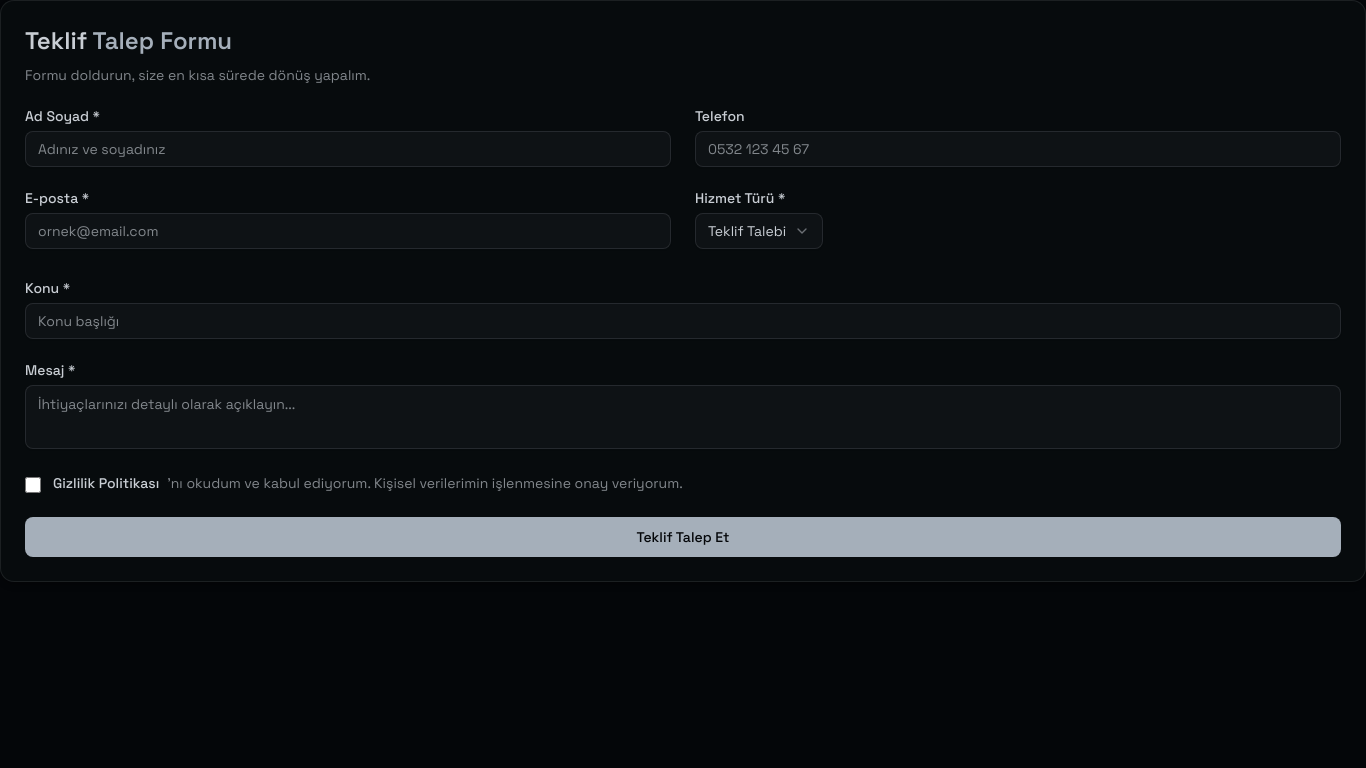
Test: ContactForm Component › shows validation error for invalid email
Type "invalid-email" into the field labelled "E-posta *" at (348, 231), box [25,213,671,249]
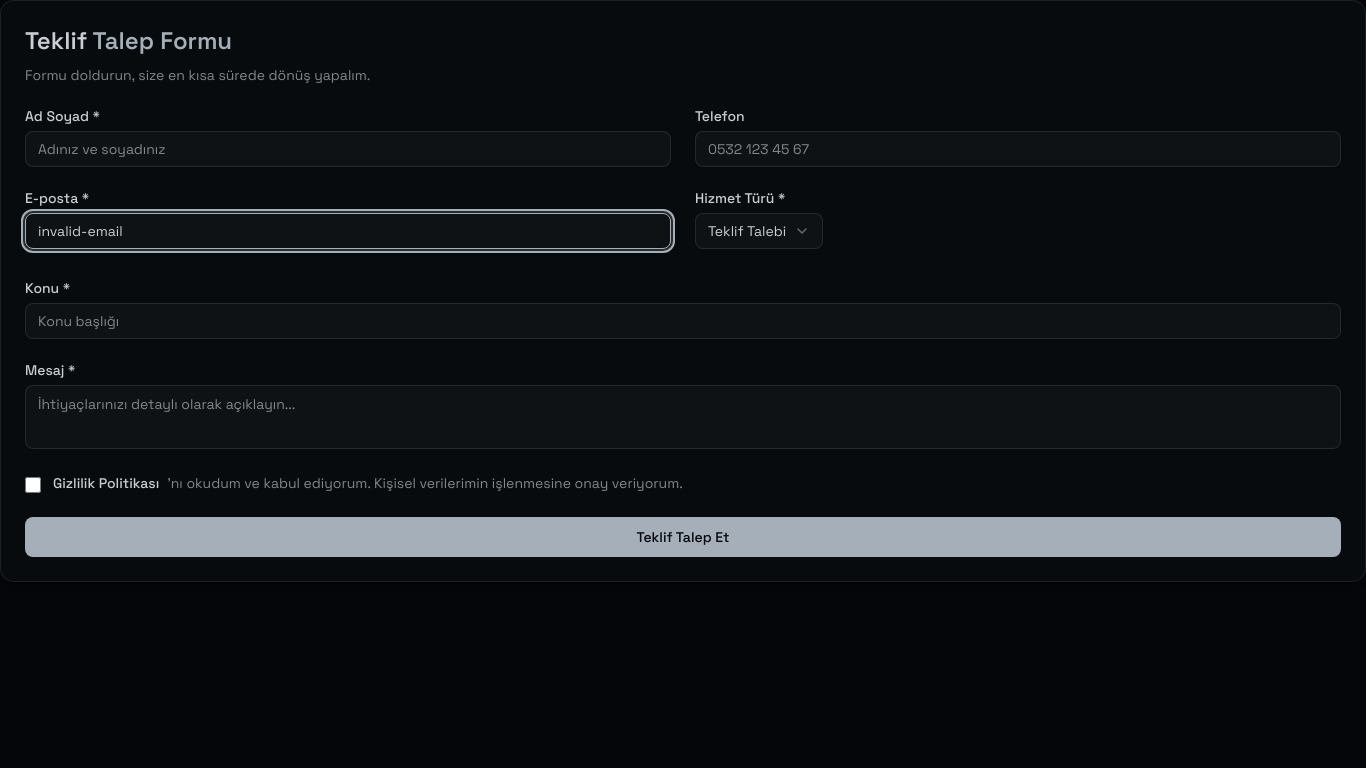
Fill required fields
Type "John Doe" into the field labelled "Ad Soyad *" at (348, 149), box [25,131,671,167]
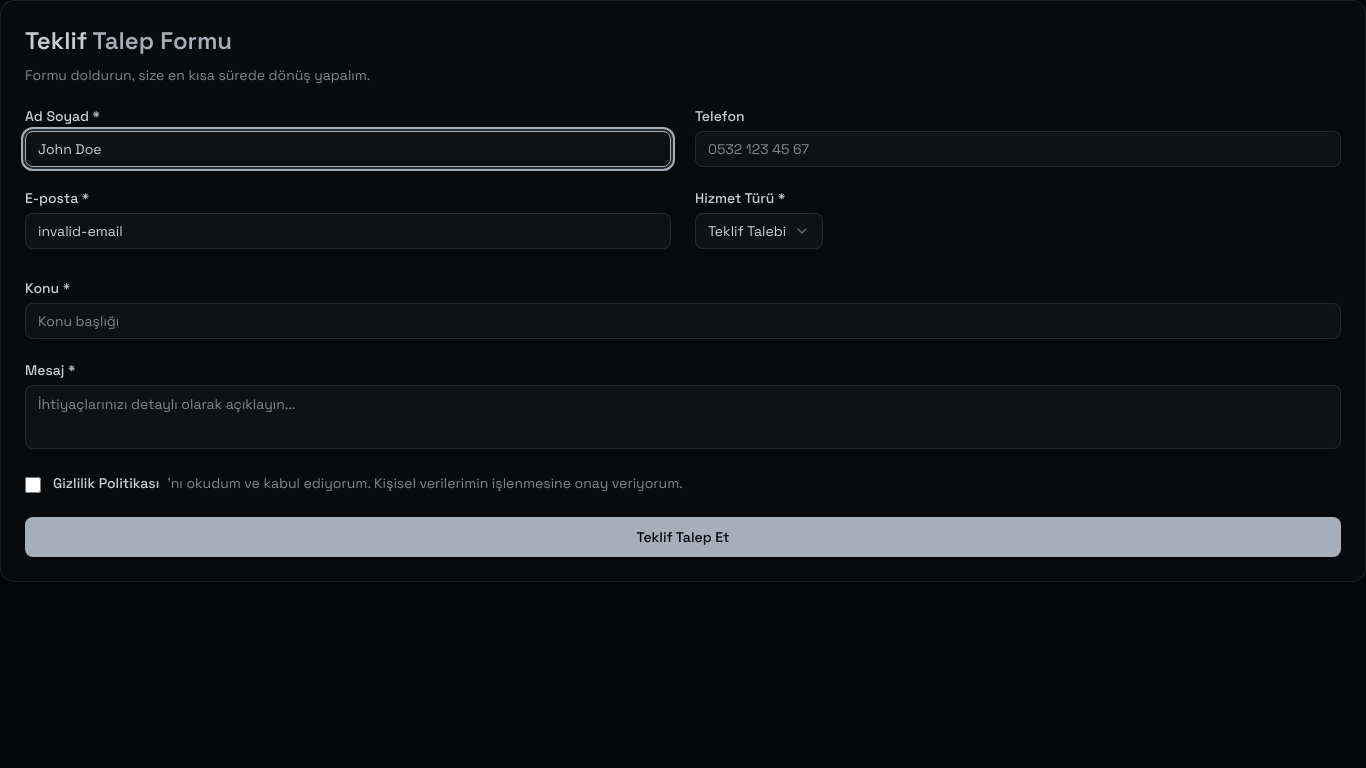
Type "This is a test message with enough characters." into the text box labelled "Mesaj *" at (683, 417), box [25,385,1341,449]
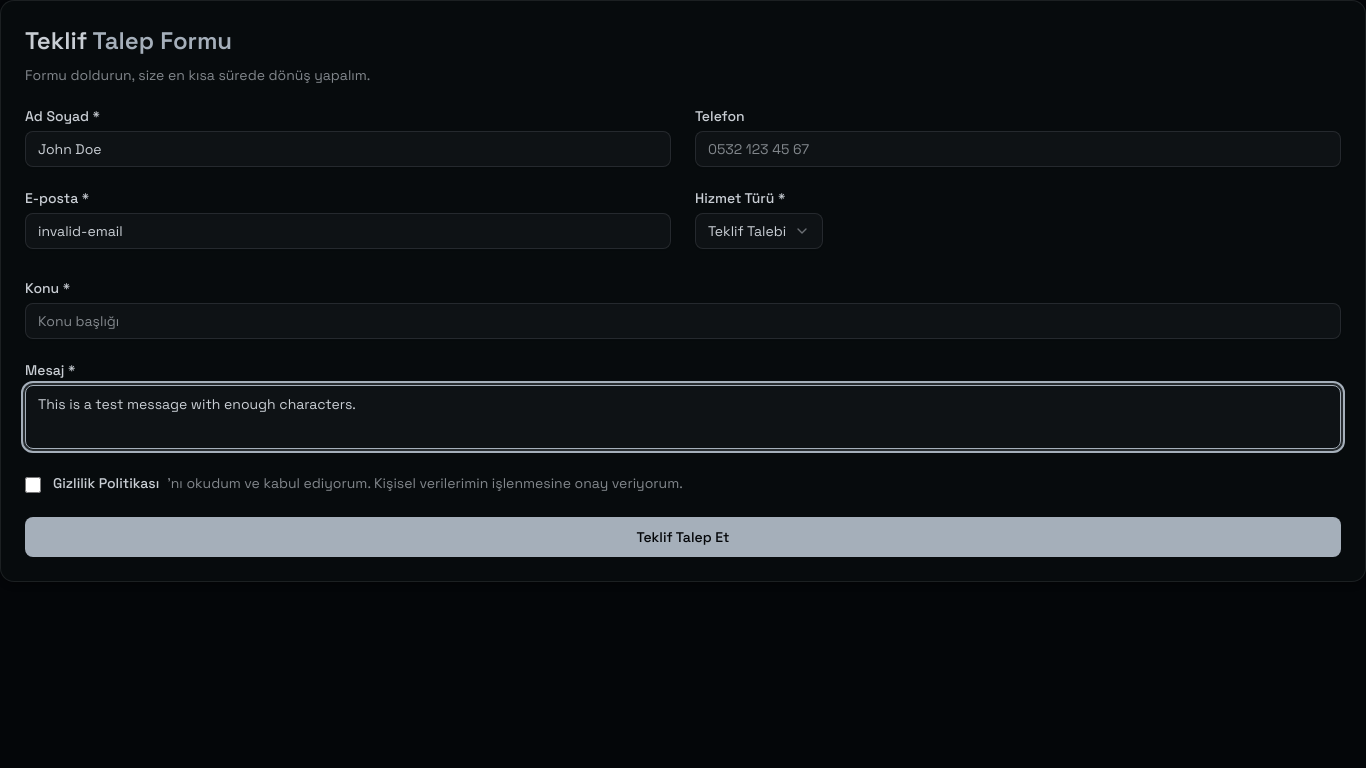
Check privacy
Click the checkbox labelled "Gizlilik Politikası" at (33, 485), box [25,477,41,493]
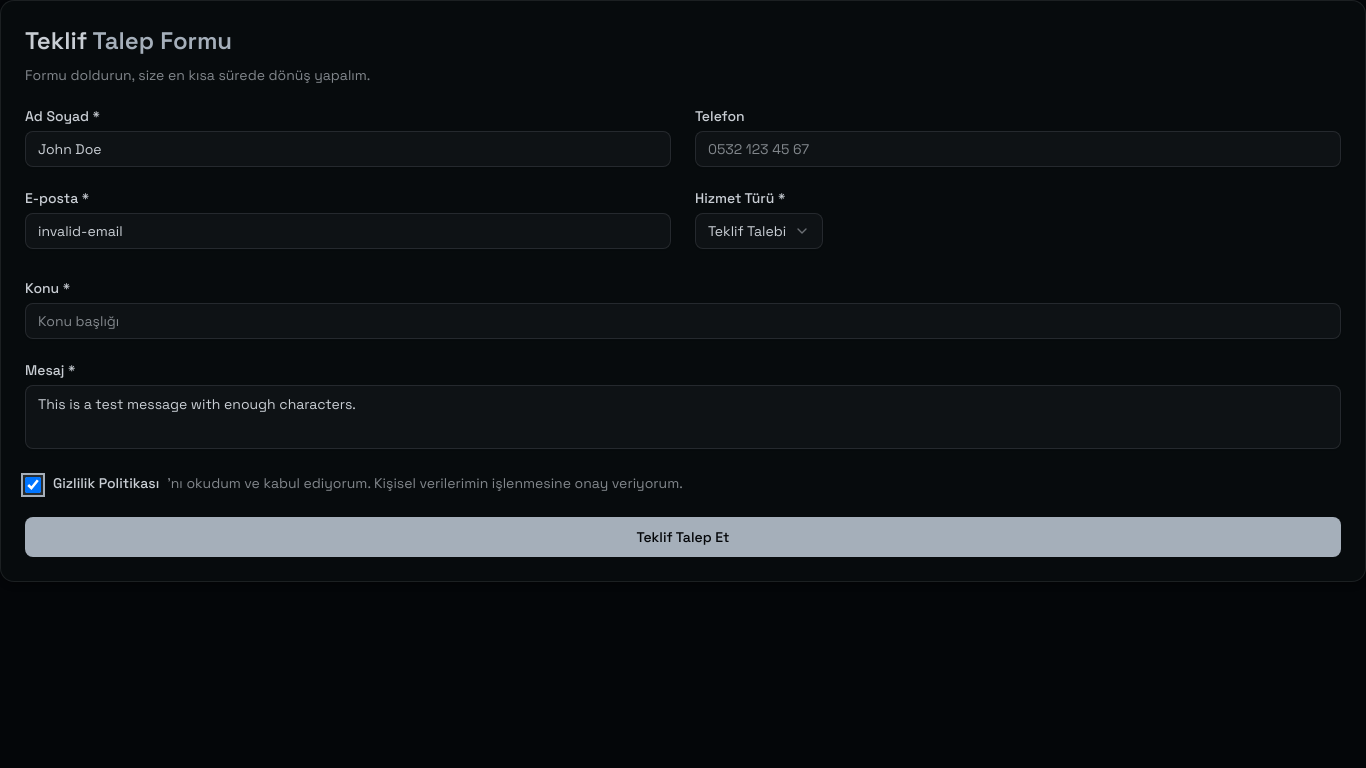
Click the button "Teklif Talep Et" at (683, 537), box [25,517,1341,557]
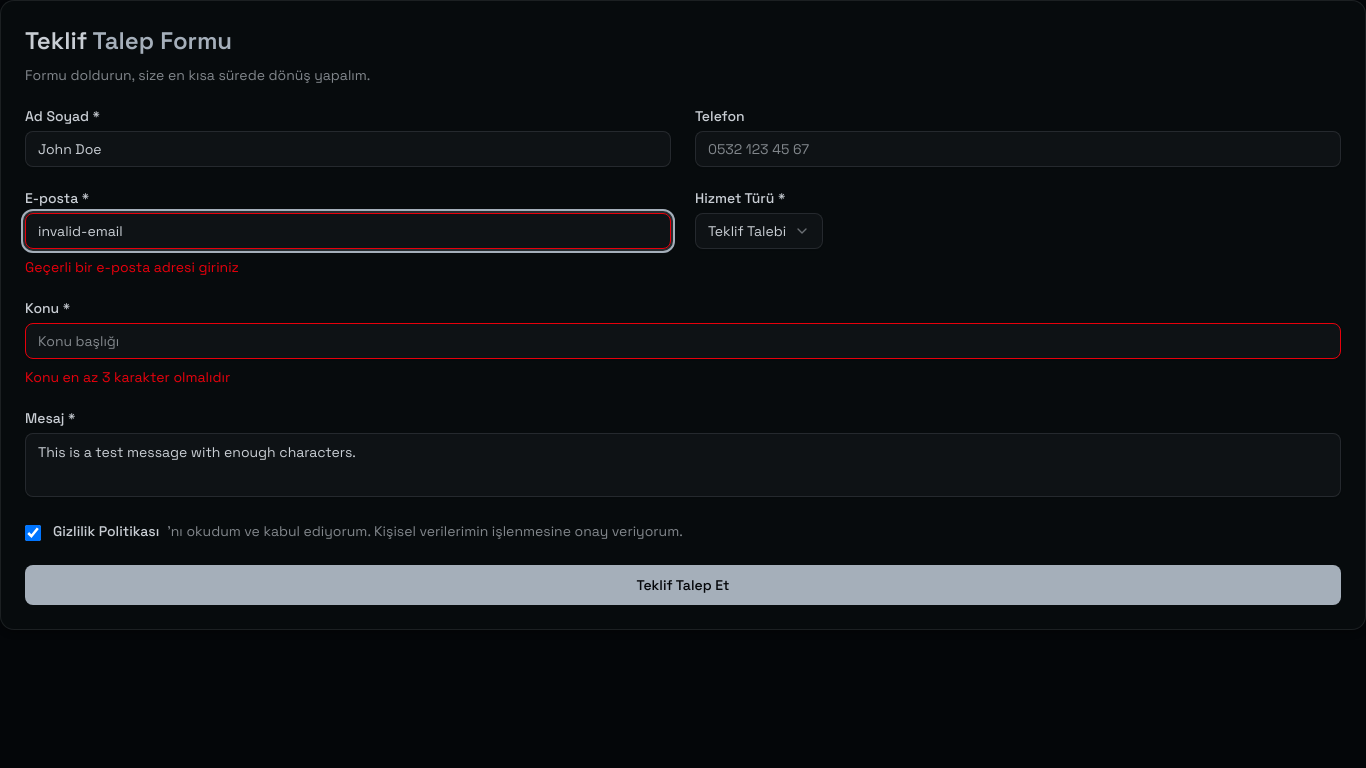
Expected: the text "Geçerli bir e-posta adresi giriniz" is shown, [25,258,239,276]
